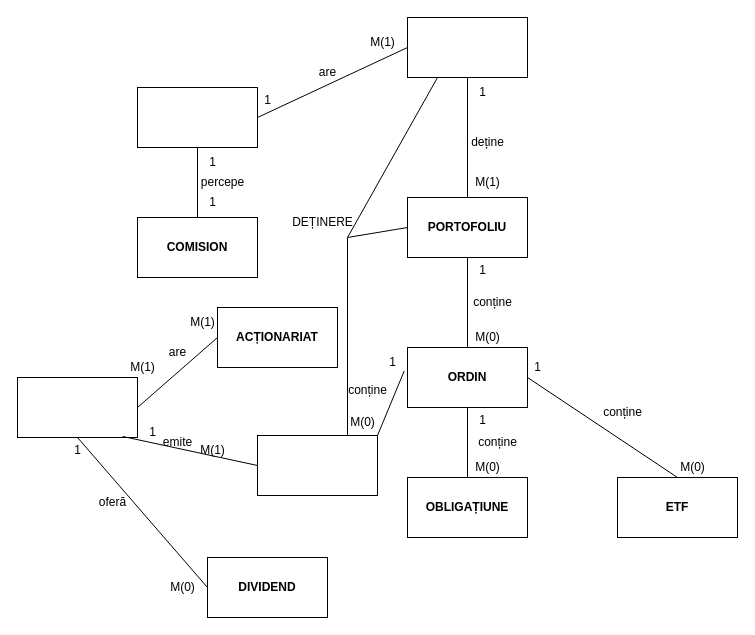
Image size: 755x635. Some labels were removed from this diagram. The shapes that lost their labels are listed below. From the top down, each one's centre as x and y in pixels, then its label:
At point 467,47: "CLIENT".
At point 197,117: "BROKER".
At point 77,407: "COMPANIE".
At point 317,465: "ACȚIUNE".
